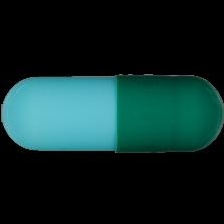53808-0612: (0, 0, 224, 224)
